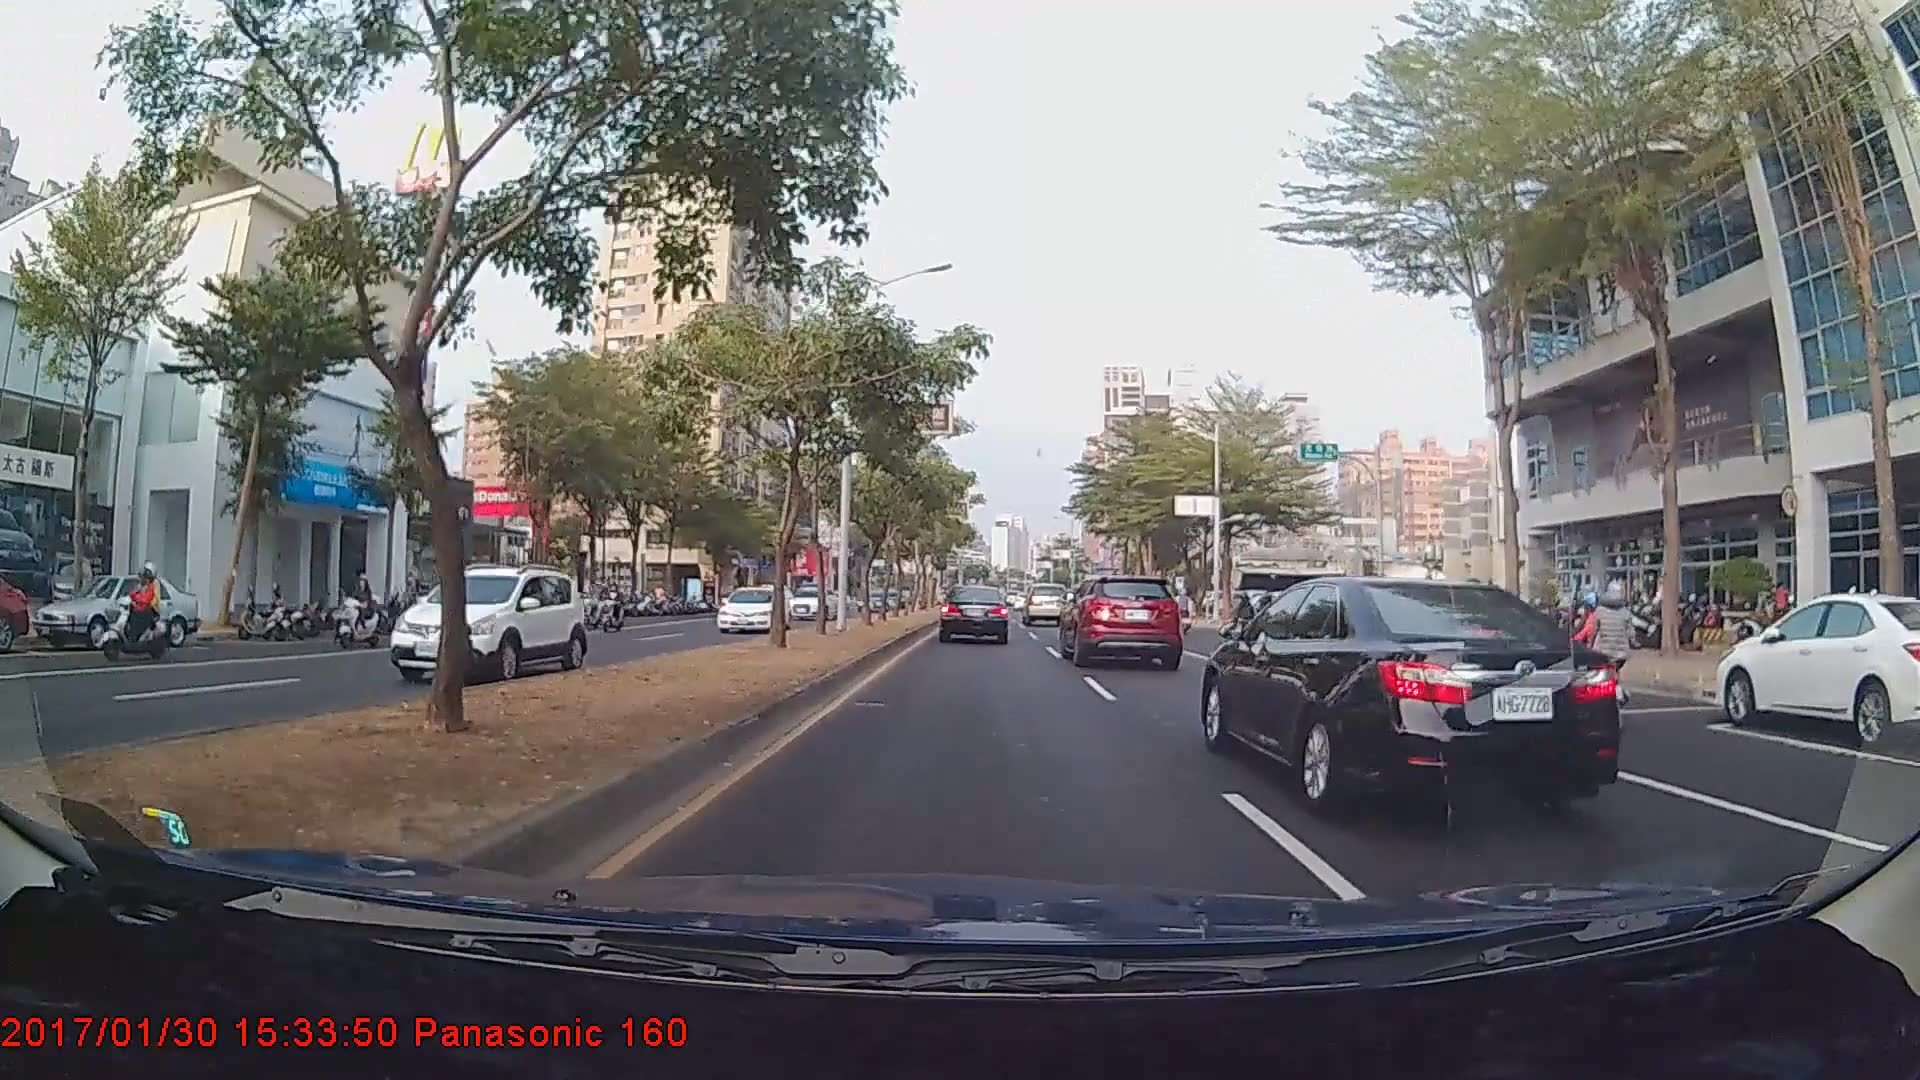rider: (1518, 584, 1602, 720), (89, 562, 175, 663), (333, 570, 390, 651)
vehicle: (1198, 563, 1604, 813), (1713, 592, 1920, 749), (383, 561, 593, 685), (31, 573, 200, 651), (1063, 575, 1182, 667), (938, 583, 1009, 645), (715, 586, 789, 634), (780, 587, 841, 621), (1023, 581, 1065, 625)
